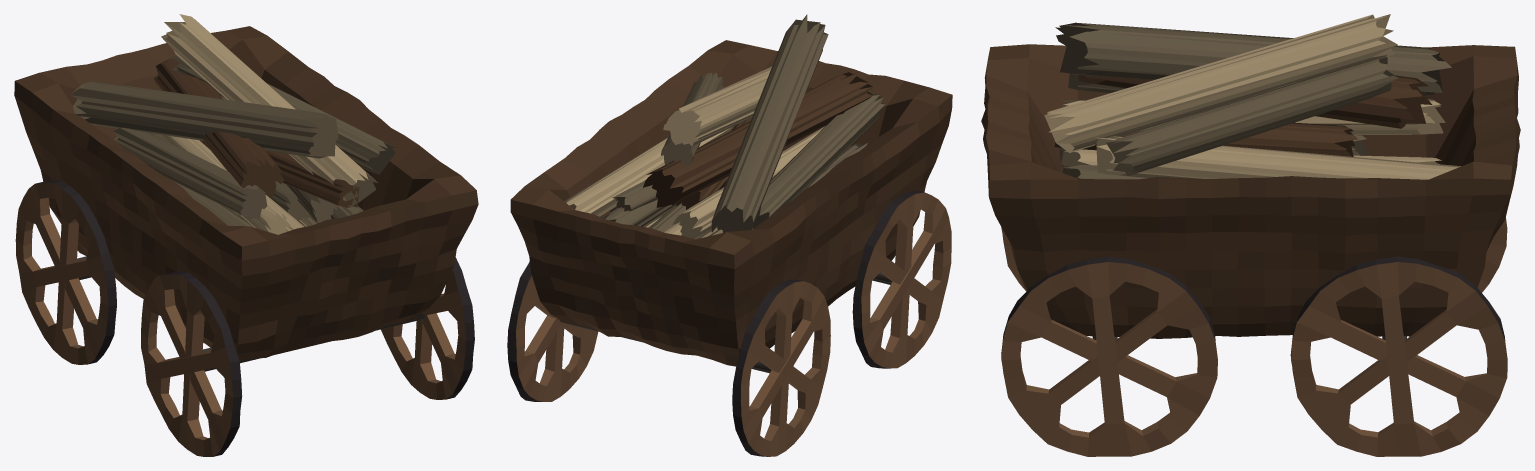
The model's file is Kutsche_holz.fbx.
The picture shows the model from 3 angles, left to right: view 1: azimuth 30°, elevation 25°; view 2: azimuth 150°, elevation 25°; view 3: azimuth 270°, elevation 25°; orthographic projection. The views are drawn at different scales.
Parts seen in each view (by area): view 1: Cube, Circle.003, Circle, Cylinder.013, Cylinder.014, Circle.002, Cylinder.015, Cylinder.017, Cylinder.009, Cylinder.016, Cylinder.010, Cylinder.007 (+2 smaller); view 2: Cube, Circle.003, Circle, Cylinder.013, Cylinder.017, Circle.001, Cylinder.015, Cylinder.014, Cylinder.011, Cylinder.010, Cylinder.009, Cylinder.002 (+3 smaller); view 3: Cube, Circle.001, Circle.002, Cylinder.014, Cylinder.009, Cylinder.013, Cylinder.011, Cylinder.017, Cylinder.016, Cylinder.010, Cylinder.008, Circle (+1 smaller).
Boxes of the visible parts, <box> form: Cube: <box>14,26,478,360</box>; Circle.003: <box>141,271,242,456</box>; Circle: <box>15,179,116,364</box>; Cylinder.013: <box>70,81,338,158</box>; Cylinder.014: <box>161,14,377,207</box>; Circle.002: <box>381,257,474,399</box>; Cylinder.015: <box>113,128,267,219</box>; Cylinder.017: <box>154,58,284,197</box>; Cylinder.009: <box>172,56,395,174</box>; Cylinder.016: <box>200,140,359,207</box>; Cylinder.010: <box>152,133,289,234</box>; Cylinder.007: <box>286,184,336,222</box>; Cube: <box>510,40,952,366</box>; Circle.003: <box>852,191,951,368</box>; Circle: <box>732,279,830,456</box>; Cylinder.013: <box>711,14,828,232</box>; Cylinder.017: <box>643,72,872,207</box>; Circle.001: <box>507,261,598,401</box>; Cylinder.015: <box>752,90,885,228</box>; Cylinder.014: <box>663,66,771,146</box>; Cylinder.011: <box>564,126,734,216</box>; Cylinder.010: <box>672,126,825,238</box>; Cylinder.009: <box>661,72,724,167</box>; Cylinder.002: <box>602,199,676,227</box>; Cube: <box>981,44,1520,338</box>; Circle.001: <box>1290,256,1507,456</box>; Circle.002: <box>1001,256,1217,456</box>; Cylinder.014: <box>1044,14,1397,152</box>; Cylinder.009: <box>1106,57,1398,175</box>; Cylinder.013: <box>1055,22,1451,95</box>; Cylinder.011: <box>1094,136,1460,179</box>; Cylinder.017: <box>1078,74,1432,128</box>; Cylinder.016: <box>1054,122,1358,156</box>; Cylinder.010: <box>1060,99,1445,134</box>; Cylinder.008: <box>1060,149,1441,167</box>; Circle: <box>1477,217,1507,292</box>.
Bounding box in the file's own units: 486 × 606 × 800.
